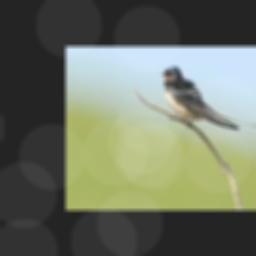Swallow: (160, 66, 256, 130)
